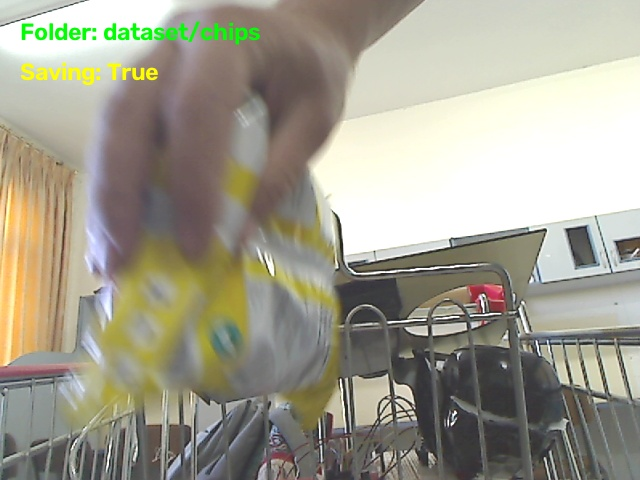chips: (63, 97, 338, 428)
